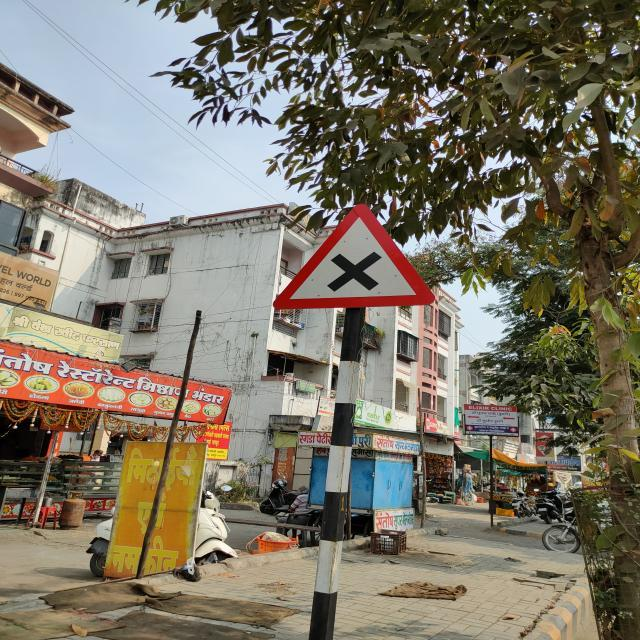cross road: (273, 202, 436, 315)
